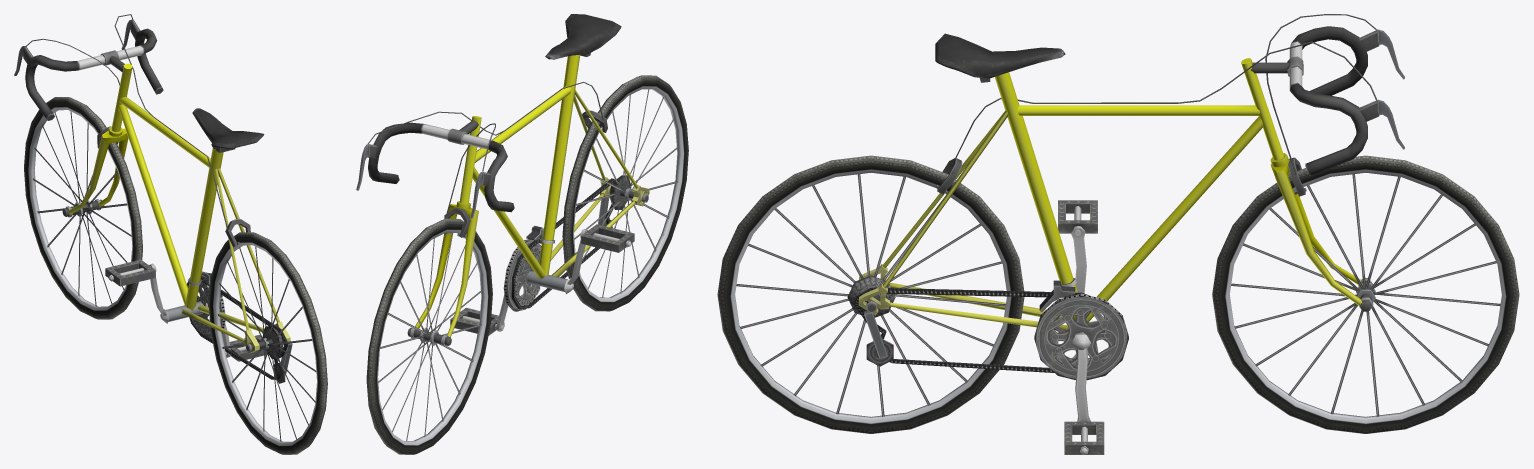
File: Road_Bike-BQXUL6A6.glb
3 renders of one model, left to right at view 1: azimuth 30°, elevation 25°; view 2: azimuth 150°, elevation 25°; view 3: azimuth 270°, elevation 25°, orthographic. The views are drawn at different scales.
Parts seen in each view (by area): view 1: Road_Bike__LOD3; view 2: Road_Bike__LOD3; view 3: Road_Bike__LOD3.
Boxes of the visible parts, left/top/right/bottom form: Road_Bike__LOD3: left=14, top=14, right=327, bottom=454; Road_Bike__LOD3: left=356, top=14, right=688, bottom=454; Road_Bike__LOD3: left=717, top=14, right=1519, bottom=454.
Bounding box in the file's own units: 0.605 × 1.05 × 1.9.
1 material, 1 textured.
